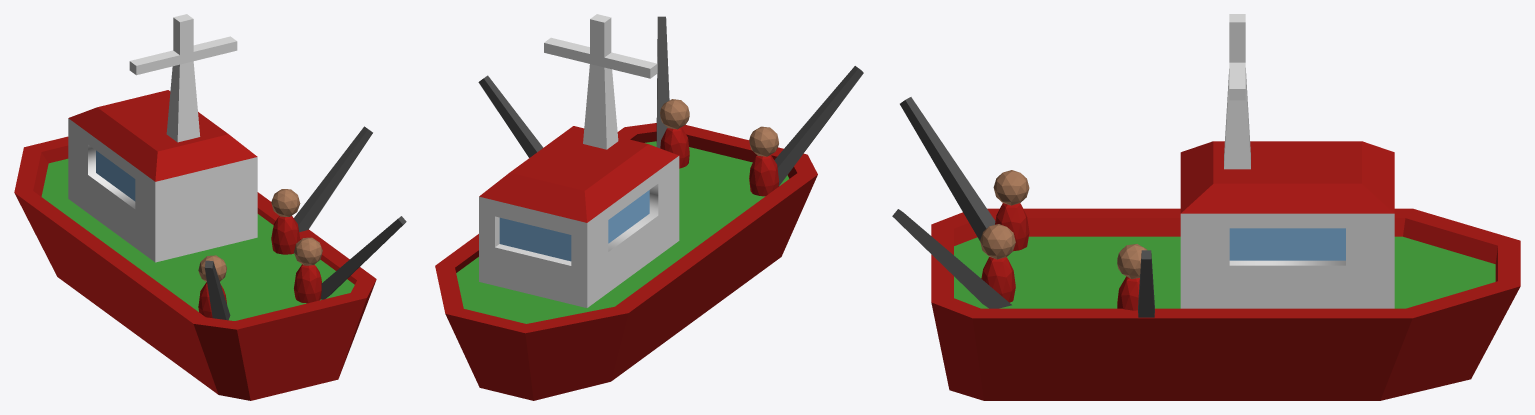
The model's file is BoatRedSmall.fbx.
3 renders of one model, left to right at view 1: azimuth 30°, elevation 25°; view 2: azimuth 150°, elevation 25°; view 3: azimuth 270°, elevation 25°, orthographic. The views are drawn at different scales.
Visible parts, largest first — view 1: BoatRedSmall; view 2: BoatRedSmall; view 3: BoatRedSmall.
Part boxes in pixels (x1=…): BoatRedSmall: x1=14, y1=14, x2=406, y2=400; BoatRedSmall: x1=435, y1=14, x2=863, y2=400; BoatRedSmall: x1=892, y1=14, x2=1520, y2=400.
Size of the model in its own units: 171 by 175 by 286.
